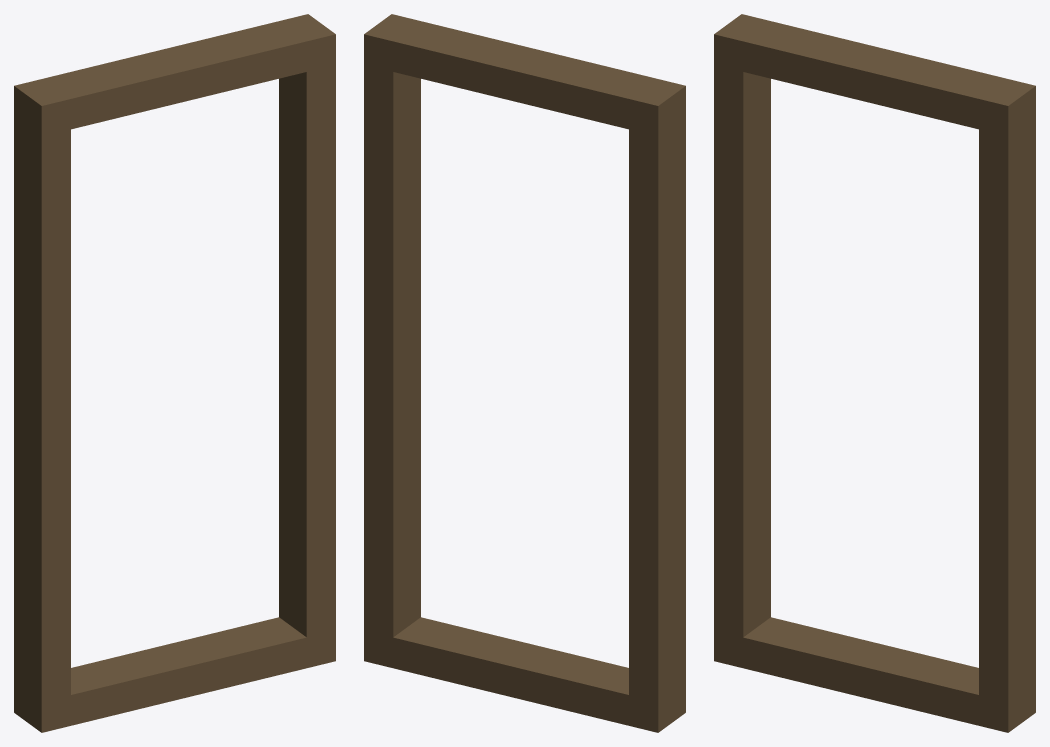
Rendered from StreetDoorFrame_03.fbx.
The picture shows the model from 3 angles, left to right: view 1: azimuth 30°, elevation 25°; view 2: azimuth 150°, elevation 25°; view 3: azimuth 330°, elevation 25°; orthographic projection.
Parts seen in each view (by area): view 1: StreetDoorFrame_03; view 2: StreetDoorFrame_03; view 3: StreetDoorFrame_03.
Boxes of the visible parts, x1=… form: StreetDoorFrame_03: x1=14, y1=14, x2=335, y2=732; StreetDoorFrame_03: x1=364, y1=14, x2=685, y2=732; StreetDoorFrame_03: x1=714, y1=14, x2=1035, y2=732.
Bounding box in the file's own units: 111 × 226 × 18.12.
